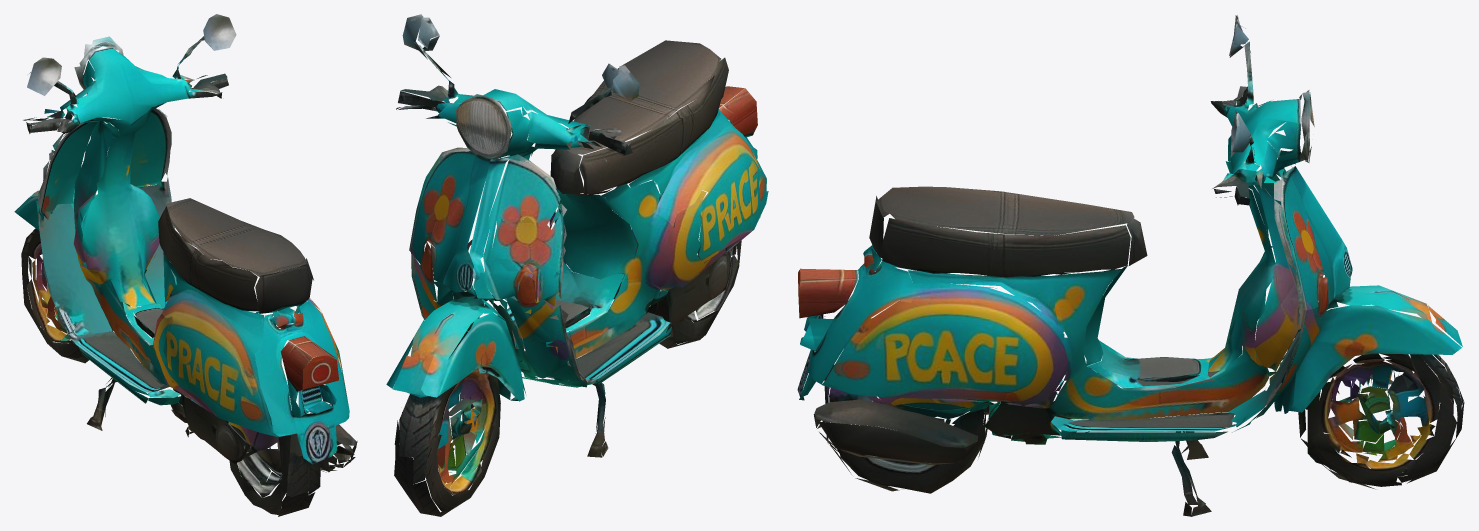
The picture shows the model from 3 angles, left to right: view 1: azimuth 30°, elevation 25°; view 2: azimuth 150°, elevation 25°; view 3: azimuth 270°, elevation 25°; orthographic projection. The views are drawn at different scales.
Visible parts, largest first — view 1: Visual; view 2: Visual; view 3: Visual.
Part boxes in pixels (bbox=[...]): Visual: bbox=[14, 14, 357, 516]; Visual: bbox=[386, 14, 768, 516]; Visual: bbox=[797, 15, 1464, 516].
Bounding box in the file's own units: 0.8568 × 1.44 × 2.05.
1 material, 1 textured.
